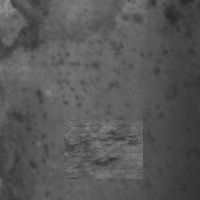patches: (4, 1, 43, 56)
pitted_surface: (112, 7, 189, 192), (51, 14, 136, 178), (2, 91, 81, 197)
rolled-in_scale: (64, 120, 143, 179)
